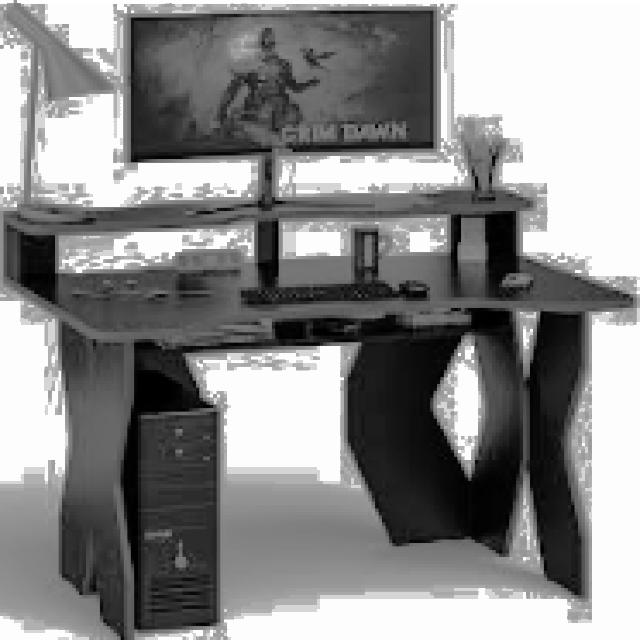table: (0, 187, 637, 636)
